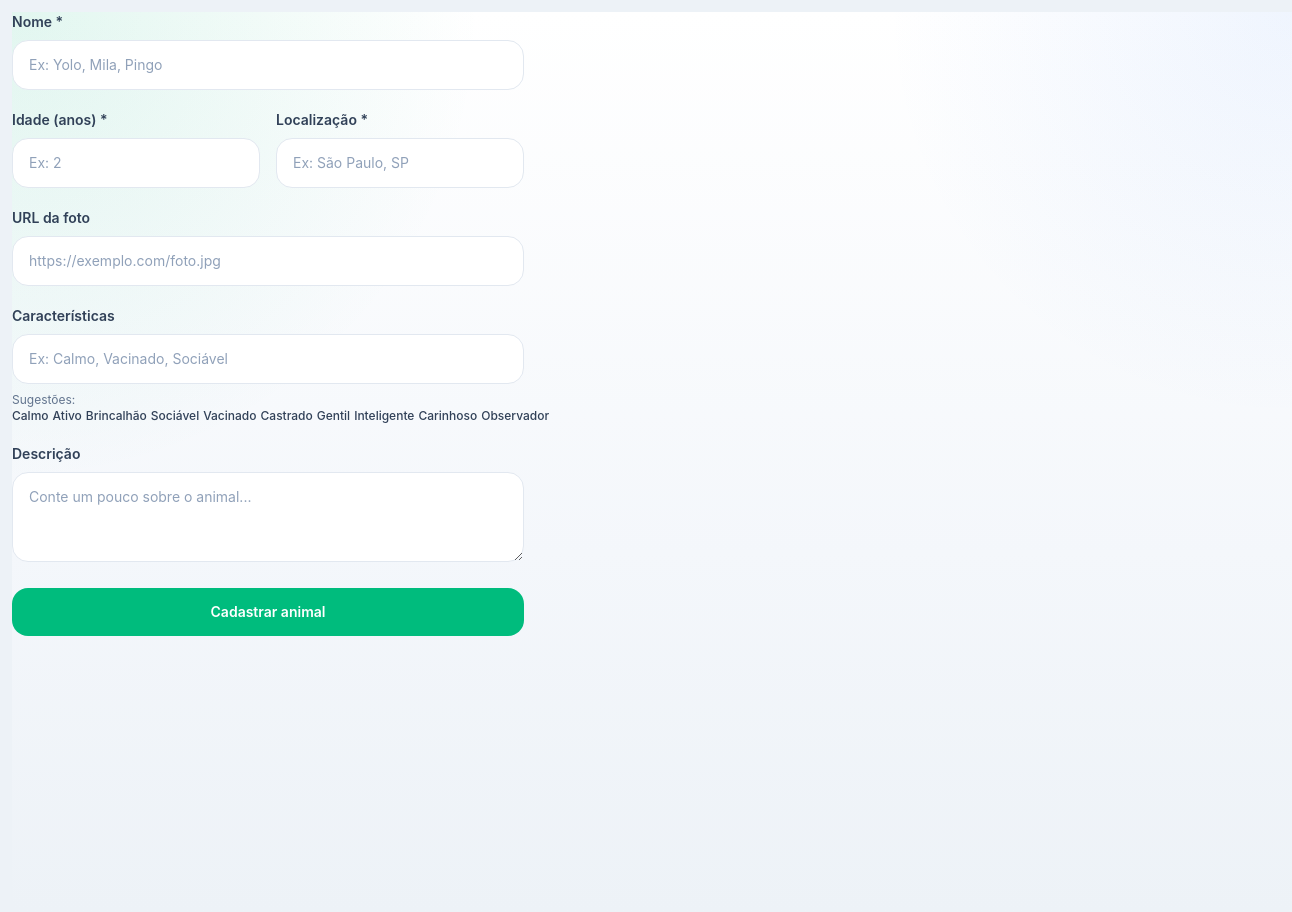
Test: OngAnimalForm › shows error message when insert fails
The image size is (1292, 912).
In the field with placeholder "Ex: Yolo, Mila, Pingo": [268, 65] box [12,40,524,90], type "Rex"
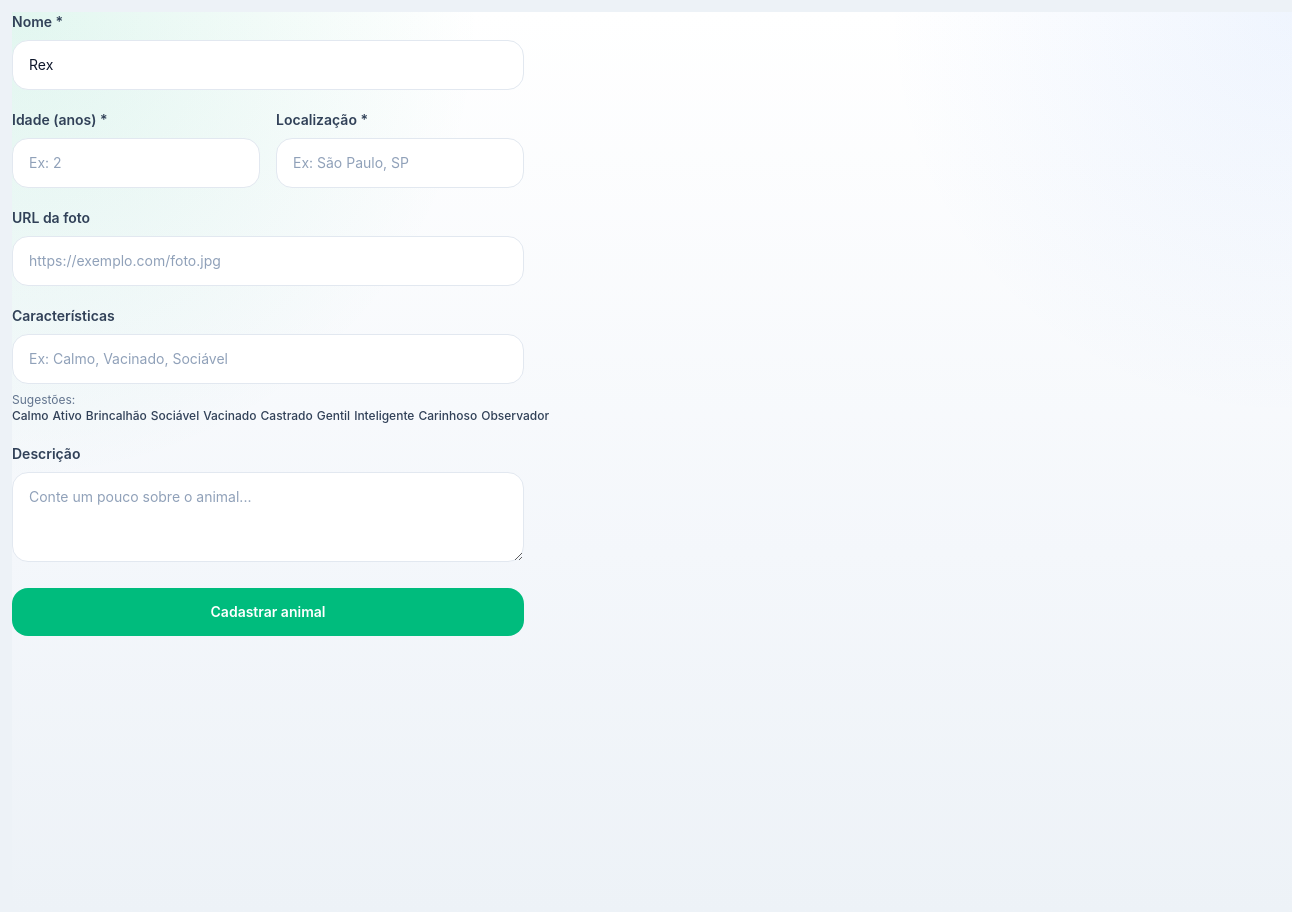
In the number field with placeholder "Ex: 2": [136, 163] box [12,138,260,188], type "3"
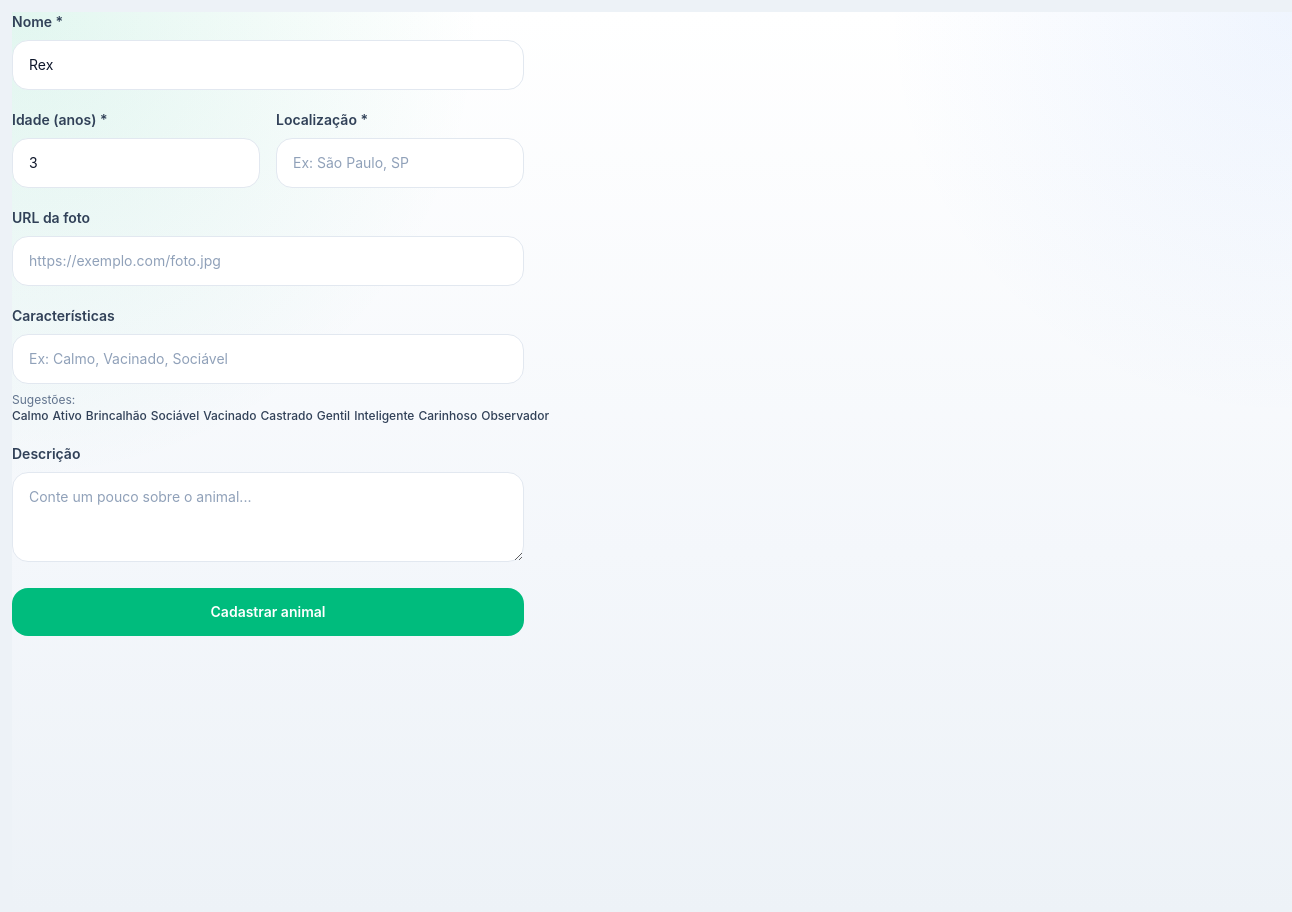
In the field with placeholder "Ex: São Paulo, SP": [400, 163] box [276,138,524,188], type "Campinas, SP"
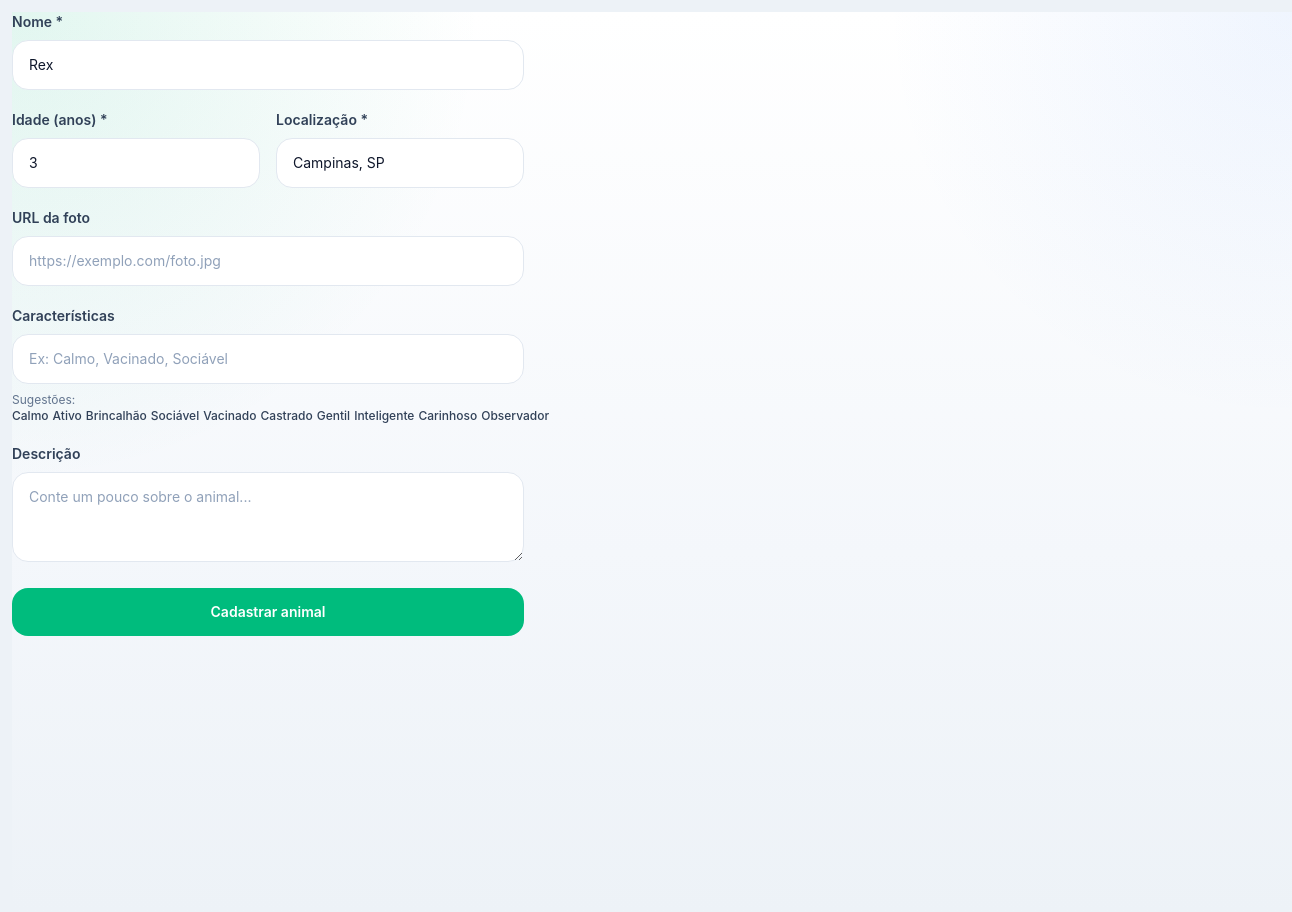
Submit the form from the button "Cadastrar animal", box [12,588,524,636]
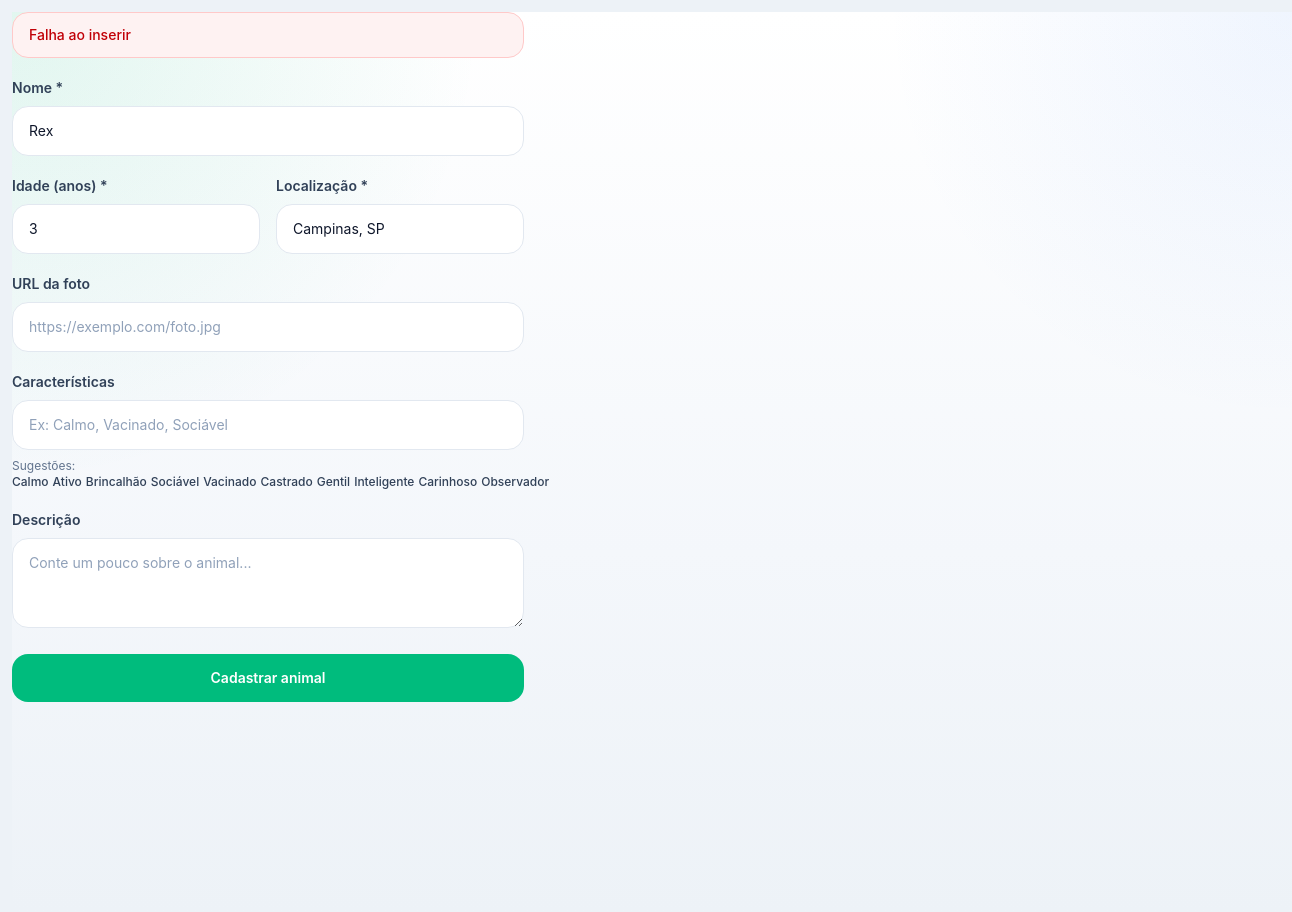
expect the text "Falha ao inserir" is shown: met, box [12,12,524,58]
